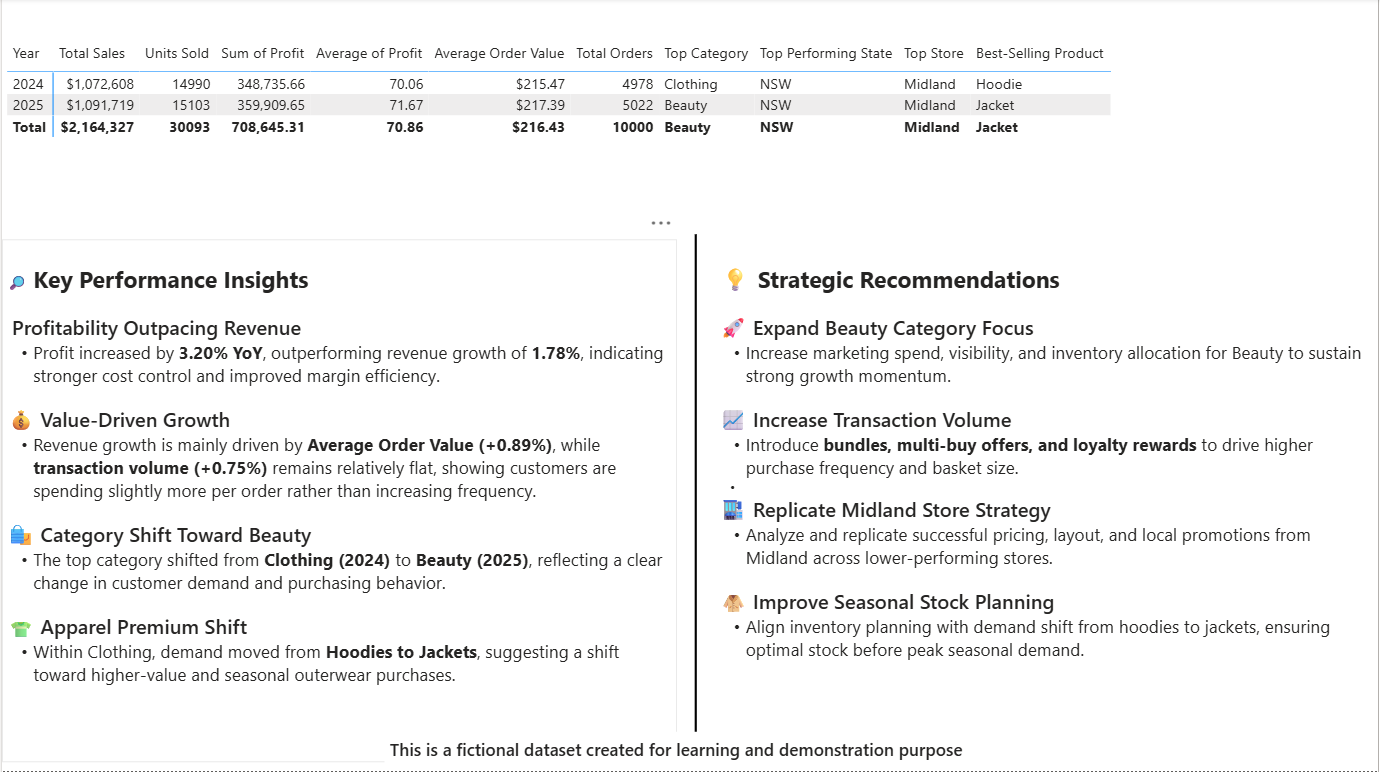

What the dashboard file says about the page in this screenshot:
{"tool":"powerbi","page":{"name":"Analysis","canvas":[1280,720],"ordinal":1},"visuals":[{"type":"pivotTable","fields":{"Rows":["Kmart_Data.Order Date.Variation.Date Hierarchy.Year"],"Values":["Kmart_Data.Total Sales","Kmart_Data.Units Sold","Sum(Kmart_Data.Profit)","Avg(Kmart_Data.Profit)","Kmart_Data.Average Order Value","Kmart_Data.Total Orders","Kmart_Data.Top Category","Kmart_Data.Top Performing State","Kmart_Data.Top Store","Kmart_Data.Best-Selling Product"]},"box":[0,34.9,1130.2,114],"z":0},{"type":"textbox","box":[0,224.4,627.9,487.2],"z":1000},{"type":"shape","box":[627.9,219.8,34.9,491.9],"z":2000},{"type":"textbox","box":[662.8,224.4,617.4,487.2],"z":3000},{"type":"textbox","box":[1130,0,150,150],"z":3001},{"type":"textbox","box":[355.8,682.6,577.9,37.2],"z":3002}]}

Visuals, with their boxes in screenshot pixels (x1, y1, x2, y2), scaled from the page's 1280x720 canvas onto the 1380x772 screenshot:
pivotTable - Kmart_Data.Order Date.Variation.Date Hierarchy.Year x Kmart_Data.Total Sales: box=[0, 37, 1218, 160]
textbox: box=[0, 241, 677, 763]
shape: box=[677, 236, 715, 763]
textbox: box=[715, 241, 1379, 763]
textbox: box=[1218, 0, 1379, 161]
textbox: box=[384, 732, 1007, 771]
